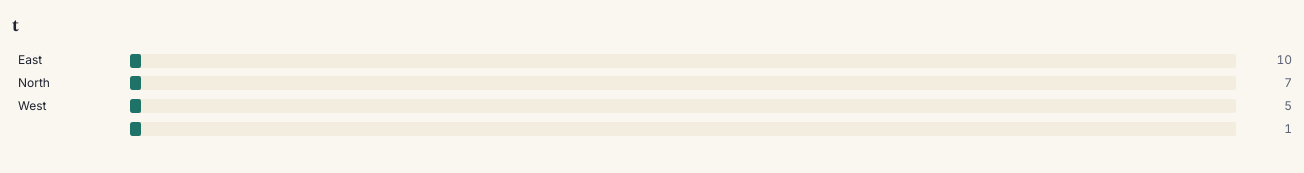
drill on bars and columns › a bar for a row the parameter refuses shows the error and runs nothing
Click the button with class "a2ui-bar" showing "North 7" at (652, 83), box [12,75,1292,92]
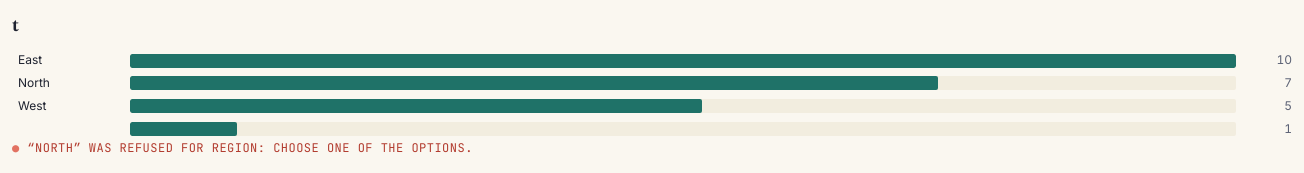
Expected: the message "“North” was refused for region: Choose one of the options." is shown, [27,140,473,156]
